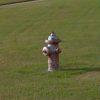Hydrant: (36, 21, 68, 75)
